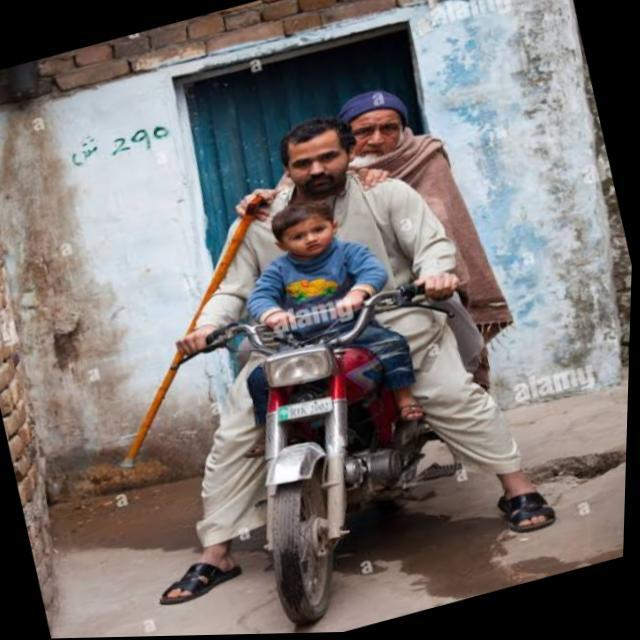Nonhelmet: (275, 110, 356, 206), (342, 83, 418, 170), (269, 198, 339, 260)
